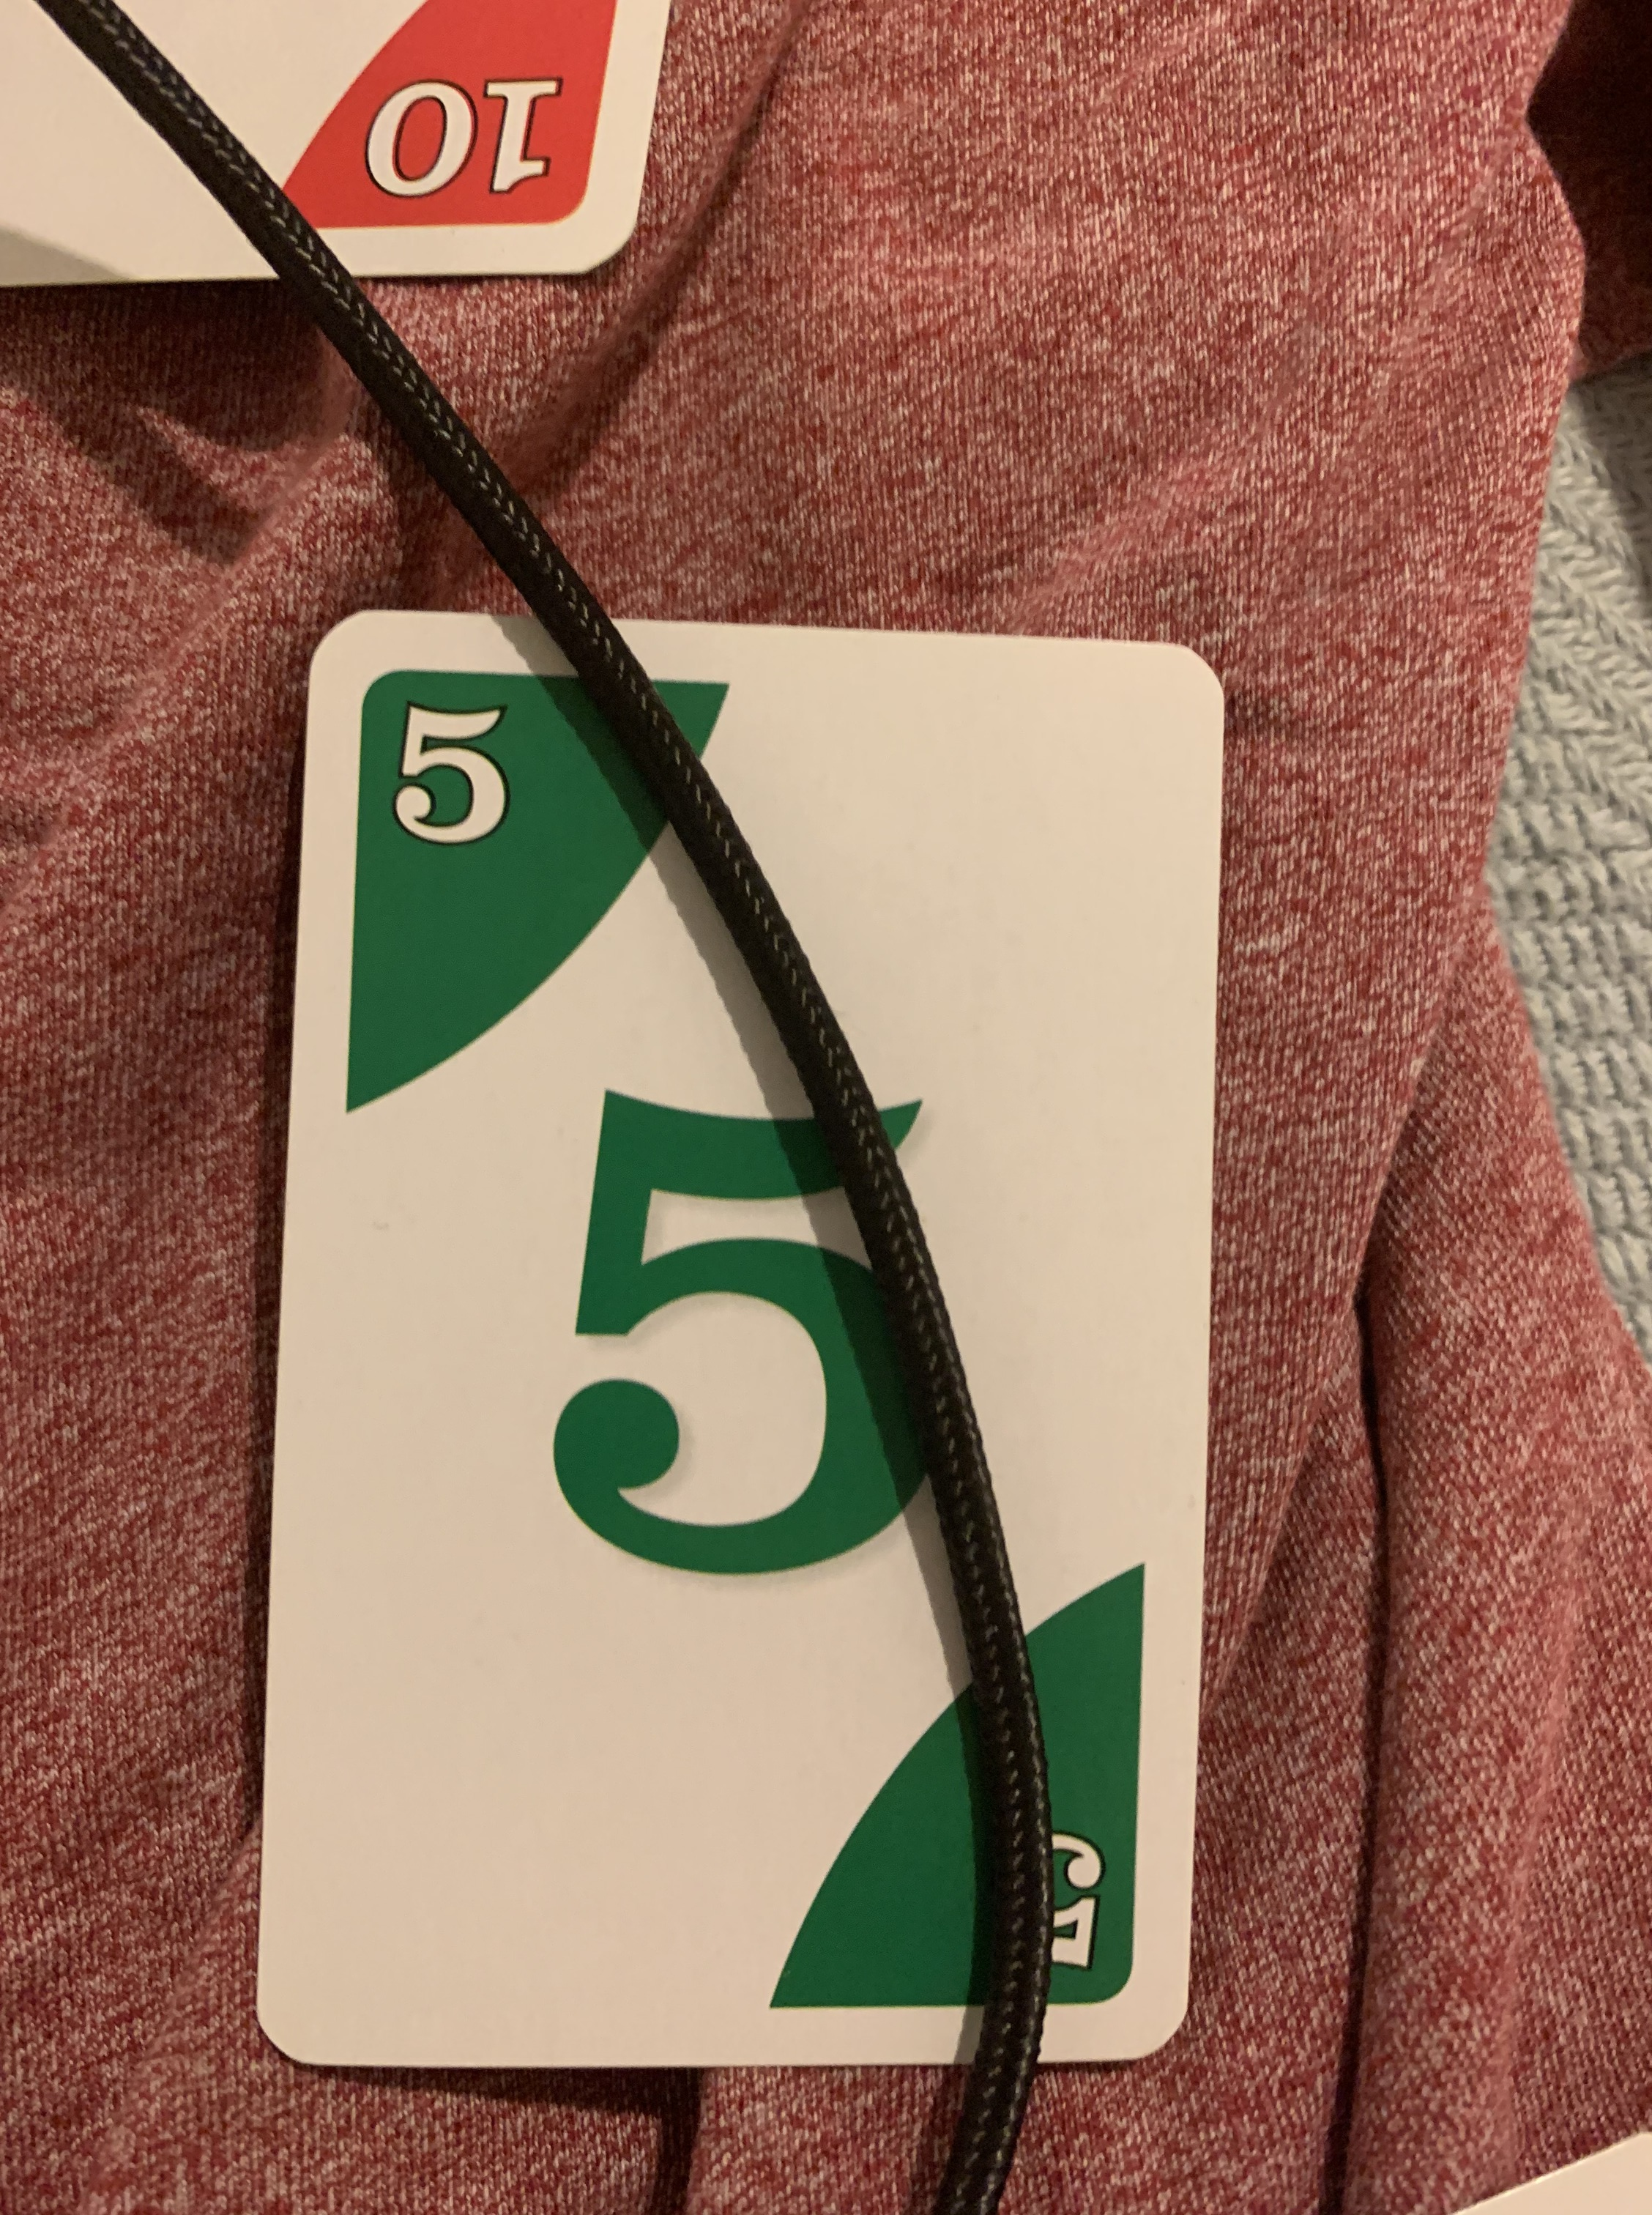five: (239, 594, 1268, 2097)
